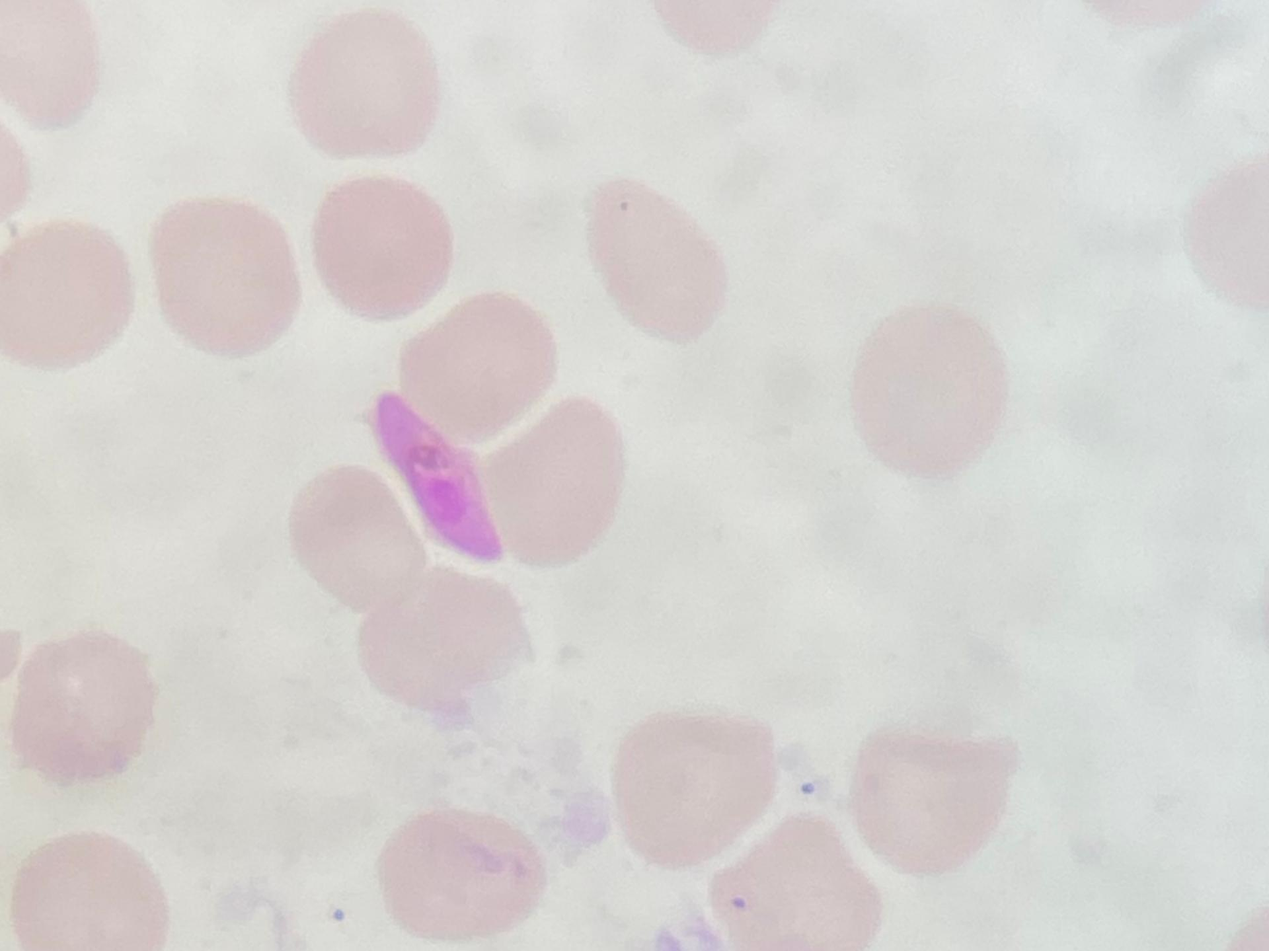Infected: (374, 389, 504, 560)
Uninfected: (848, 305, 1013, 475), (613, 710, 778, 865), (850, 726, 1019, 872), (148, 195, 302, 354), (477, 399, 621, 568), (361, 572, 532, 711), (399, 292, 557, 441), (709, 814, 882, 950), (377, 808, 550, 942), (588, 179, 728, 339), (7, 631, 155, 782), (289, 12, 442, 158), (312, 176, 457, 320), (0, 221, 135, 368), (288, 468, 422, 612), (7, 831, 167, 949)
